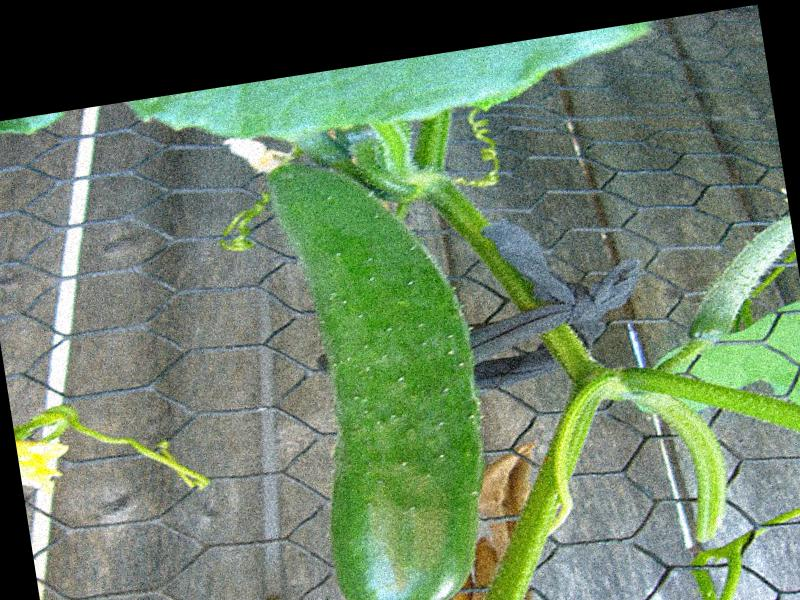Cucumber: (263, 143, 512, 600)
